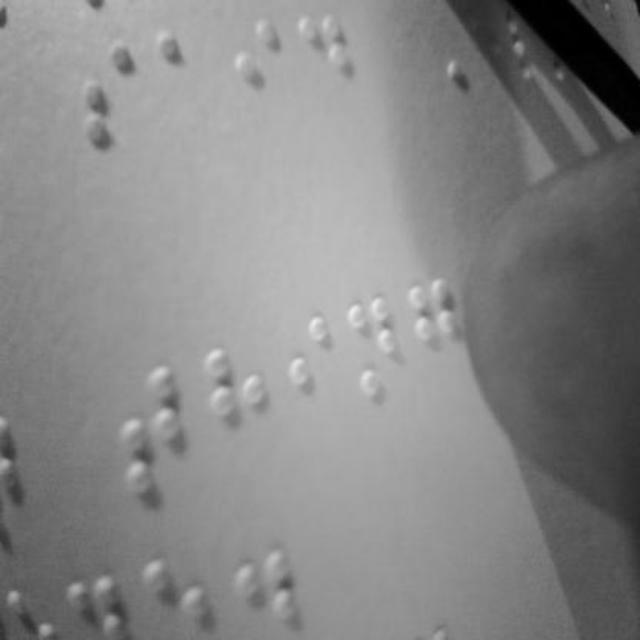braiile: (117, 354, 195, 496), (206, 343, 270, 463), (408, 268, 468, 392), (346, 286, 404, 412), (80, 31, 144, 143), (280, 312, 338, 430), (226, 15, 288, 121), (152, 26, 208, 126), (300, 8, 356, 108)
